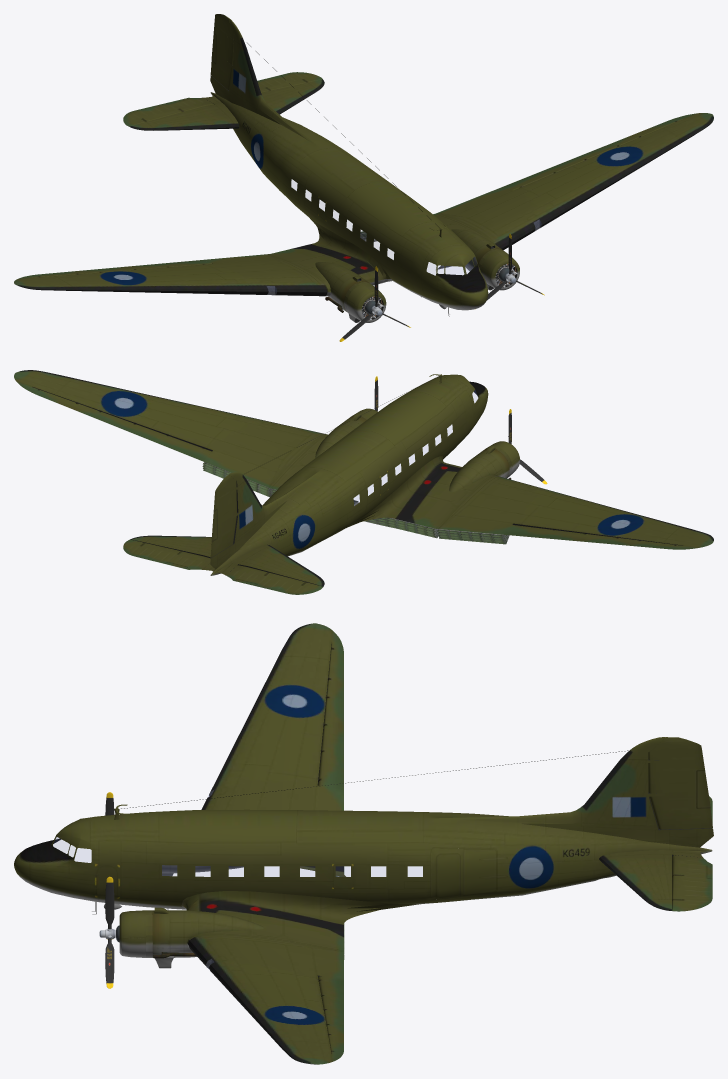
3 views of the same model, one above another, from view 1: azimuth 30°, elevation 25°; view 2: azimuth 150°, elevation 25°; view 3: azimuth 270°, elevation 25° (orthographic). The views are drawn at different scales.
Visible parts, largest first — view 1: Exterior, XLive_3, XLive_2, XLive_1, XLive_0; view 2: Exterior, XLive_3, XLive_1, XLive_2, XLive_0, Pose_flaps_1, Pose_flaps_2, Pose_flaps_3, Pose_flaps_4; view 3: Exterior, XLive_2, XLive_0, XLive_3, XLive_1, Spin_0.
Boxes of the visible parts, x1=… form: Exterior: x1=14, y1=18, x2=713, y2=322; XLive_3: x1=123, y1=72, x2=322, y2=126; XLive_2: x1=210, y1=14, x2=233, y2=90; XLive_1: x1=503, y1=117, x2=682, y2=190; XLive_0: x1=29, y1=260, x2=211, y2=277; Exterior: x1=14, y1=370, x2=713, y2=586; XLive_3: x1=123, y1=539, x2=322, y2=594; XLive_1: x1=28, y1=387, x2=211, y2=461; XLive_2: x1=210, y1=474, x2=236, y2=557; XLive_0: x1=503, y1=525, x2=682, y2=549; Pose_flaps_1: x1=203, y1=462, x2=505, y2=537; Pose_flaps_2: x1=202, y1=465, x2=507, y2=540; Pose_flaps_3: x1=203, y1=467, x2=508, y2=542; Pose_flaps_4: x1=203, y1=469, x2=509, y2=544; Exterior: x1=14, y1=623, x2=713, y2=1064; XLive_2: x1=648, y1=737, x2=712, y2=829; XLive_0: x1=318, y1=642, x2=343, y2=789; XLive_3: x1=672, y1=796, x2=712, y2=911; XLive_1: x1=318, y1=976, x2=343, y2=1055; Spin_0: x1=99, y1=876, x2=115, y2=988.
Size of the model in its own units: 29.33 by 5.84 by 19.68.
Materials: 6 (6 with a texture image).
